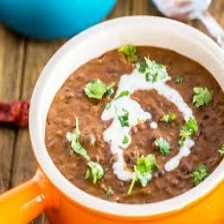dal: (43, 43, 223, 203)
